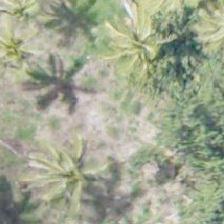Kelapa_Sawit: (28, 125, 118, 215), (93, 3, 183, 93), (0, 6, 57, 96), (175, 0, 223, 70)
